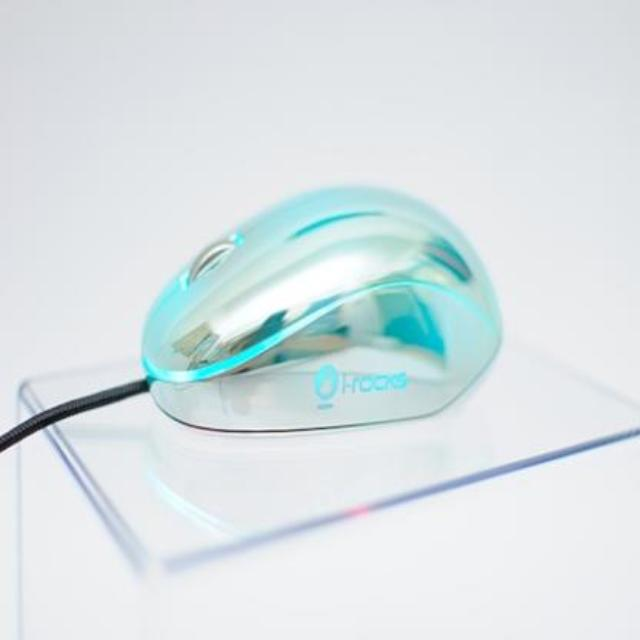Computer-Mouse: (60, 126, 584, 532)
